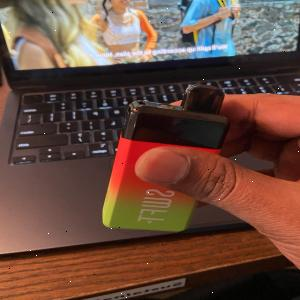Swift-E-Ciggirate: (102, 81, 232, 235)
